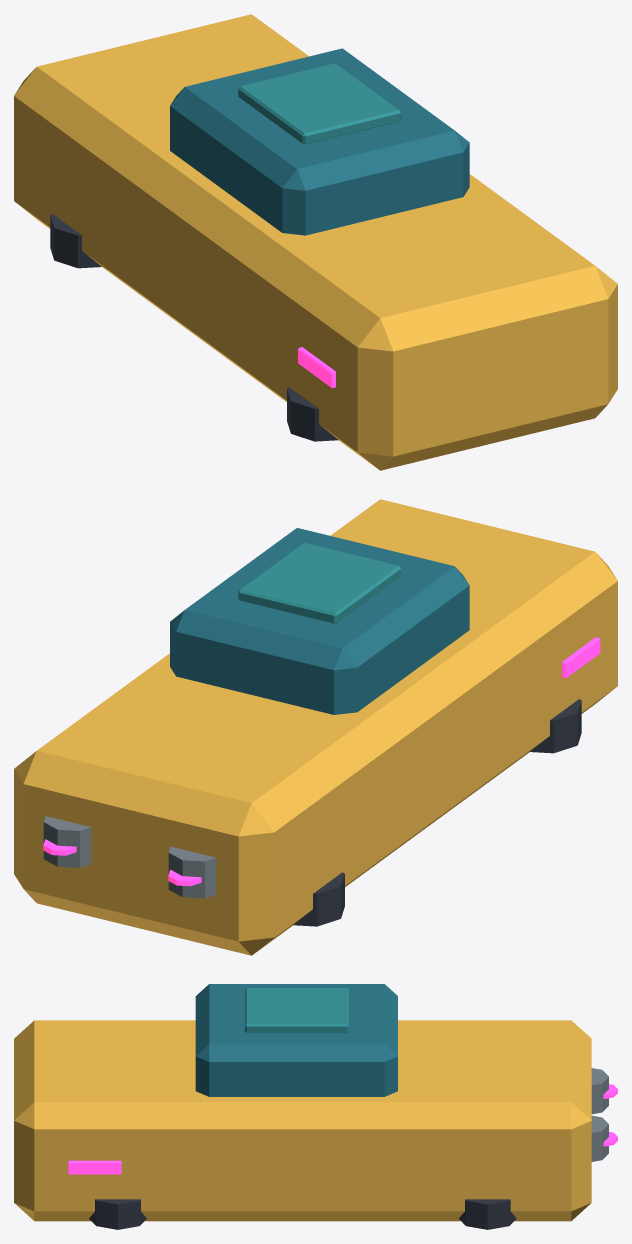
File: vehicles_003_seed11.glb
3 views of the same model, one above another, from view 1: azimuth 30°, elevation 25°; view 2: azimuth 150°, elevation 25°; view 3: azimuth 270°, elevation 25° (orthographic). The views are drawn at different scales.
Parts seen in each view (by area): view 1: vehicles_003_seed11; view 2: vehicles_003_seed11; view 3: vehicles_003_seed11.
Part boxes in pixels (x1,y1,x2,y2): vehicles_003_seed11: [14, 14, 617, 470]; vehicles_003_seed11: [14, 499, 617, 955]; vehicles_003_seed11: [14, 984, 617, 1229].
Size of the model in its own units: 2.02 by 1.5 by 4.72.
